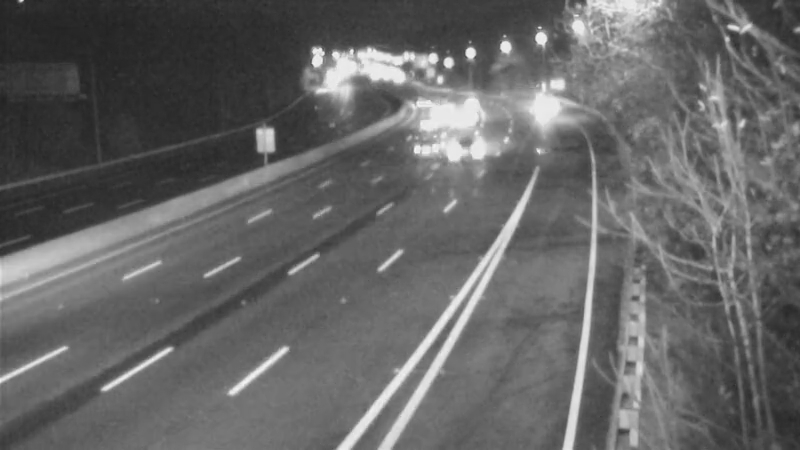vehicle: (416, 113, 496, 193), (386, 111, 466, 191), (400, 77, 450, 127), (518, 75, 568, 125), (442, 93, 492, 143), (403, 97, 453, 147)
